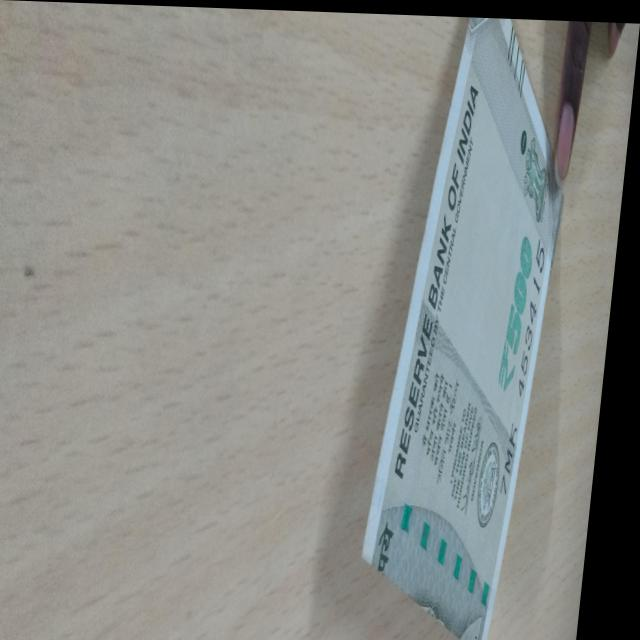Currency: (376, 15, 565, 640)
